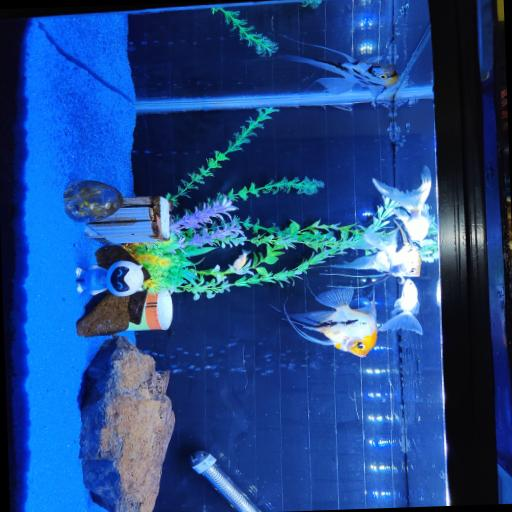Fish: (280, 35, 397, 98), (283, 288, 376, 357), (331, 225, 420, 281), (372, 167, 430, 242), (378, 279, 421, 335), (228, 250, 253, 275)
